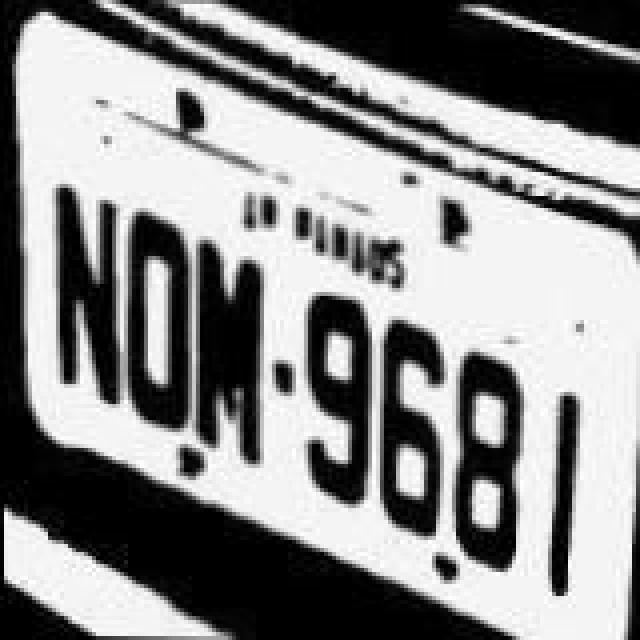1: (522, 344, 598, 632)
6: (366, 264, 450, 544)
8: (444, 302, 532, 594)
9: (294, 240, 378, 524)
M: (184, 212, 268, 508)
N: (40, 170, 124, 446)
O: (114, 192, 194, 468)
